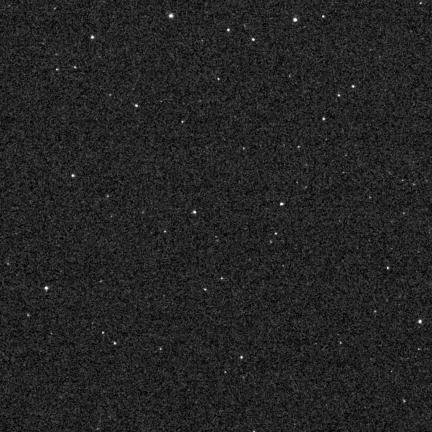blob: (168, 14, 174, 18), (227, 29, 231, 33), (252, 38, 256, 42), (293, 18, 297, 22), (323, 117, 326, 122), (352, 85, 355, 89), (322, 15, 325, 19), (192, 211, 196, 214), (71, 174, 75, 177), (45, 287, 48, 291), (240, 356, 243, 360), (91, 36, 94, 39), (135, 104, 138, 107), (419, 320, 421, 323), (338, 94, 340, 97)
